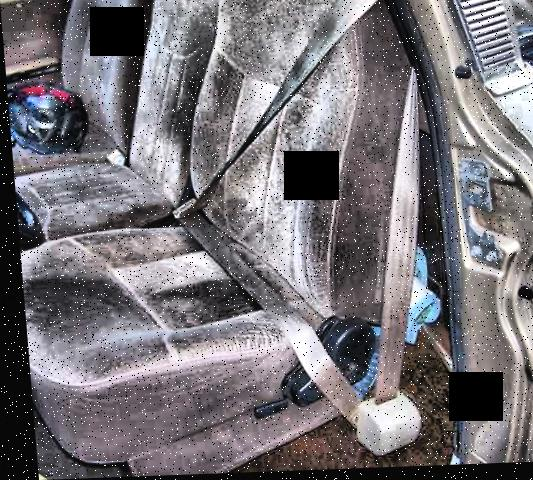seatbelt: (254, 85, 452, 432), (144, 0, 392, 220)
